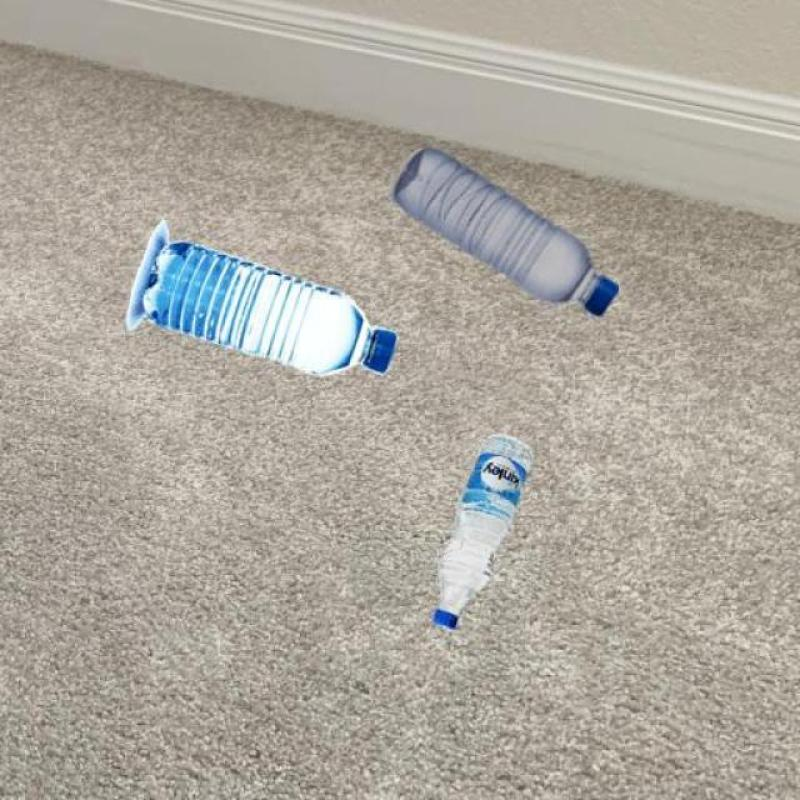botella: (396, 146, 619, 319), (140, 238, 396, 380), (432, 434, 530, 634)
